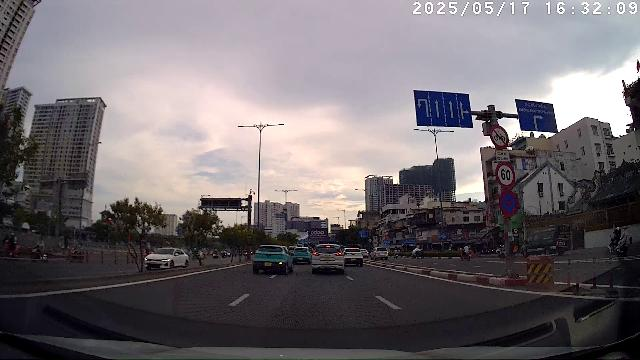127-toc-do-toi-da-60: (495, 161, 516, 189)
